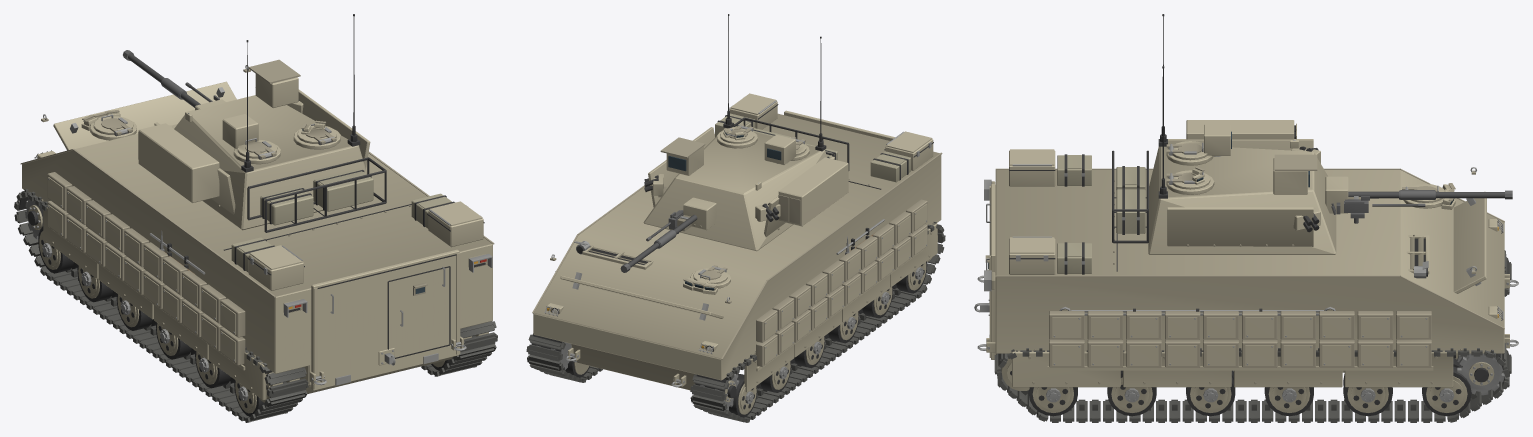
The model's file is usa_ifv_m2a4.glb.
The picture shows the model from 3 angles, left to right: view 1: azimuth 30°, elevation 25°; view 2: azimuth 150°, elevation 25°; view 3: azimuth 270°, elevation 25°; orthographic projection. The views are drawn at different scales.
Parts seen in each view (by area): view 1: body, turret, door, barrel; view 2: body, turret, barrel, door; view 3: body, turret, barrel, door.
Part boxes in pixels (x1,y1,x2,y2): body: (14,65,497,422); turret: (138,14,386,232); door: (311,249,460,390); barrel: (123,50,226,110); body: (526,93,945,422); turret: (643,14,849,251); barrel: (620,197,716,272); door: (784,110,894,140); body: (974,149,1518,422); turret: (1112,14,1336,254); barrel: (1325,176,1512,223); door: (985,184,995,359).
Size of the model in its own units: 3.64 by 4.67 by 7.06.
